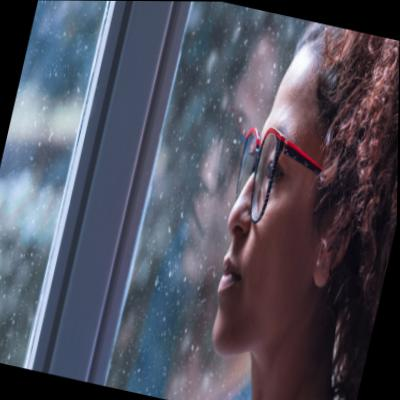netural: (196, 59, 349, 372)
